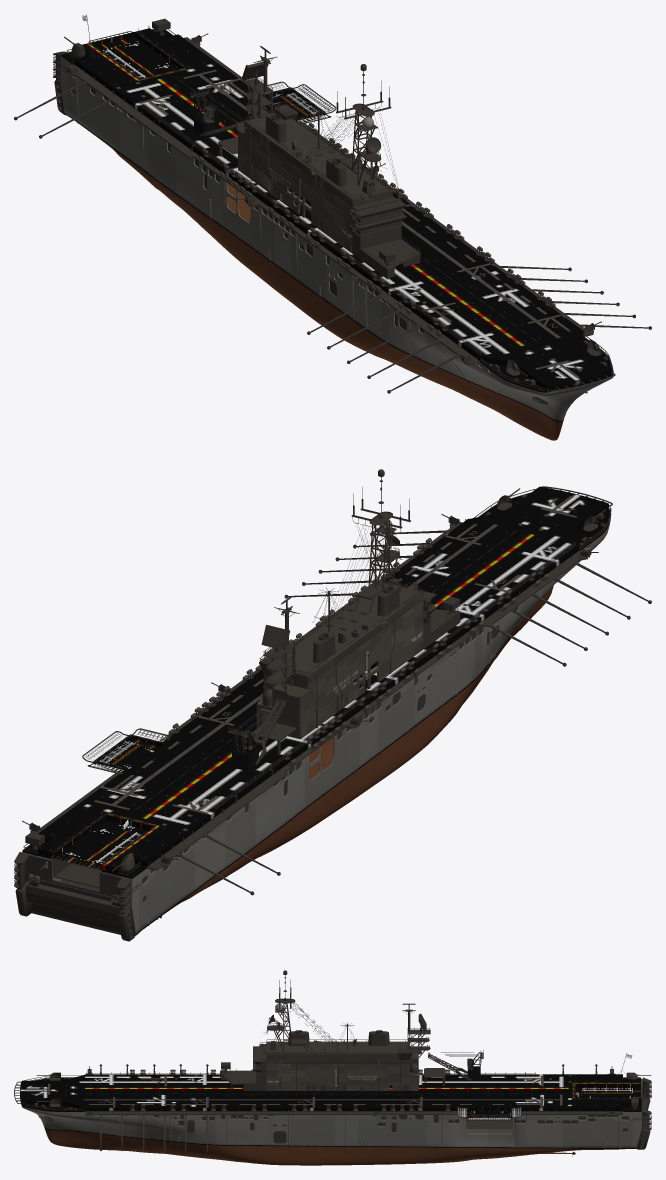
Rendered from uss_tarawa_lha-1_amphibious_assault_ship.glb.
3 renders of one model, top to bottom at view 1: azimuth 30°, elevation 25°; view 2: azimuth 150°, elevation 25°; view 3: azimuth 270°, elevation 25°, orthographic. The views are drawn at different scales.
Parts seen in each view (by area): view 1: Object_40, Object_6, Object_4, Object_19, Object_15, Object_16, Object_21, Object_22, Object_11, Object_31, Object_36, Object_23 (+8 smaller); view 2: Object_40, Object_6, Object_4, Object_19, Object_16, Object_21, Object_17, Object_15, Object_18, Object_22, Object_20, Object_31 (+10 smaller); view 3: Object_6, Object_40, Object_5, Object_19, Object_21, Object_16, Object_22, Object_15, Object_20, Object_18, Object_11, Object_25 (+11 smaller).
Boxes of the visible parts, x1,y1,x2,y2 form: Object_40: (74,28,611,390); Object_6: (60,55,613,440); Object_4: (238,121,354,253); Object_19: (65,30,607,384); Object_15: (244,64,406,258); Object_16: (218,61,603,404); Object_21: (236,114,395,259); Object_22: (61,64,582,377); Object_11: (61,30,613,392); Object_31: (67,29,479,353); Object_36: (237,113,554,337); Object_23: (198,148,525,312); Object_40: (38,486,608,873); Object_6: (22,513,611,934); Object_4: (298,592,423,739); Object_19: (30,494,605,870); Object_16: (252,534,651,754); Object_21: (94,583,429,772); Object_17: (22,488,611,934); Object_15: (263,469,436,727); Object_18: (14,587,345,941); Object_22: (94,496,577,892); Object_20: (53,495,598,925); Object_31: (14,542,575,899); Object_6: (21,1078,641,1165); Object_40: (20,1074,640,1118); Object_5: (266,1059,418,1090); Object_19: (34,1039,638,1116); Object_21: (259,1040,638,1117); Object_16: (99,1013,445,1151); Object_22: (24,1066,640,1120); Object_15: (44,970,410,1117); Object_20: (49,1072,638,1156); Object_18: (38,1003,651,1149); Object_11: (20,1077,640,1111); Object_25: (62,1054,628,1131).
Size of the model in its own units: 121 by 115 by 380.
17 materials, 14 textured.
